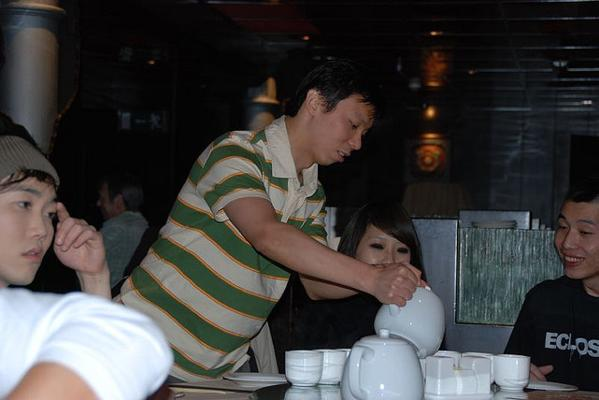person: (111, 62, 428, 387)
